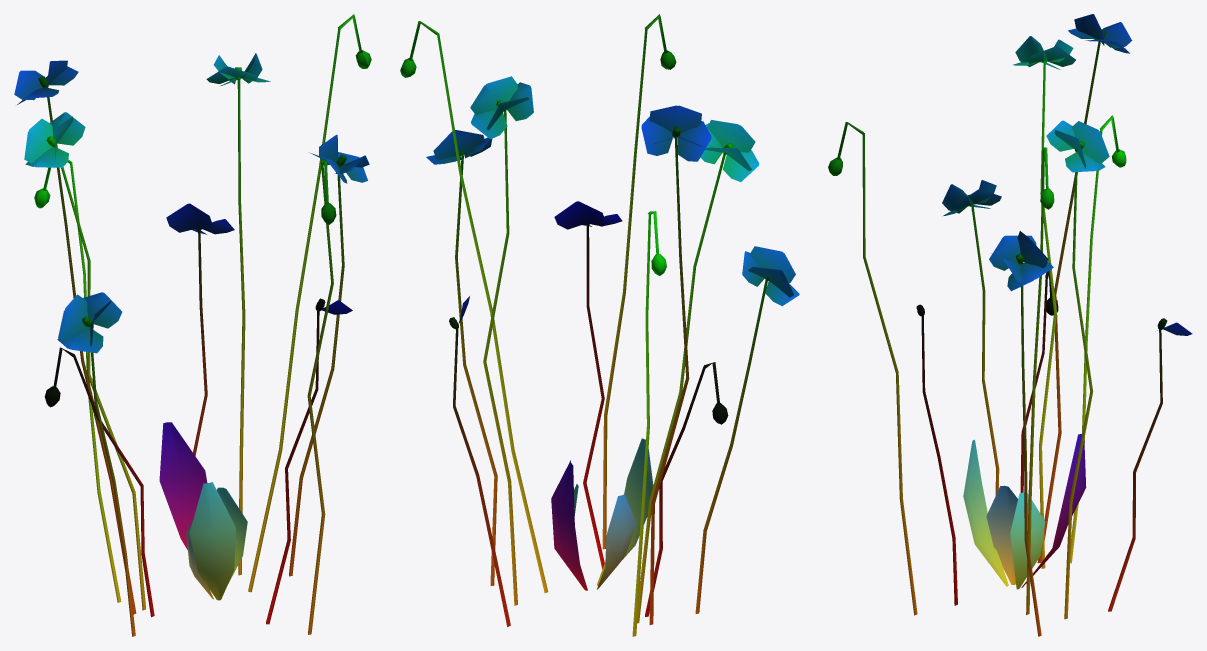
The model's file is SM_Flower_Poppy_B_LOD2.fbx.
3 views of the same model, side by side, from view 1: azimuth 30°, elevation 25°; view 2: azimuth 150°, elevation 25°; view 3: azimuth 270°, elevation 25° (orthographic). The views are drawn at different scales.
Visible parts, largest first — view 1: SM_Flower_Poppy_B_LOD2; view 2: SM_Flower_Poppy_B_LOD2; view 3: SM_Flower_Poppy_B_LOD2.
Boxes of the visible parts, left/top/right/bottom form: SM_Flower_Poppy_B_LOD2: left=14, top=14, right=371, bottom=636; SM_Flower_Poppy_B_LOD2: left=400, top=14, right=799, bottom=636; SM_Flower_Poppy_B_LOD2: left=828, top=14, right=1192, bottom=636.
Size of the model in its own units: 0.4287 by 0.6387 by 0.4037.
